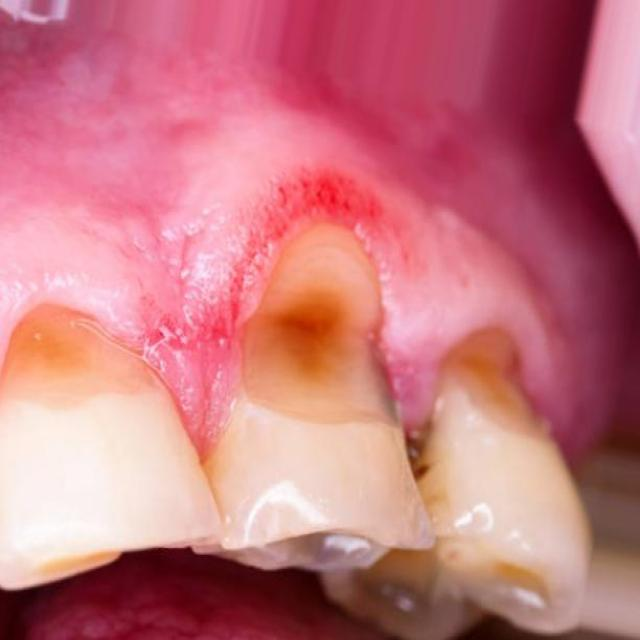caries: (231, 250, 415, 438), (429, 302, 566, 477), (0, 296, 175, 423)
